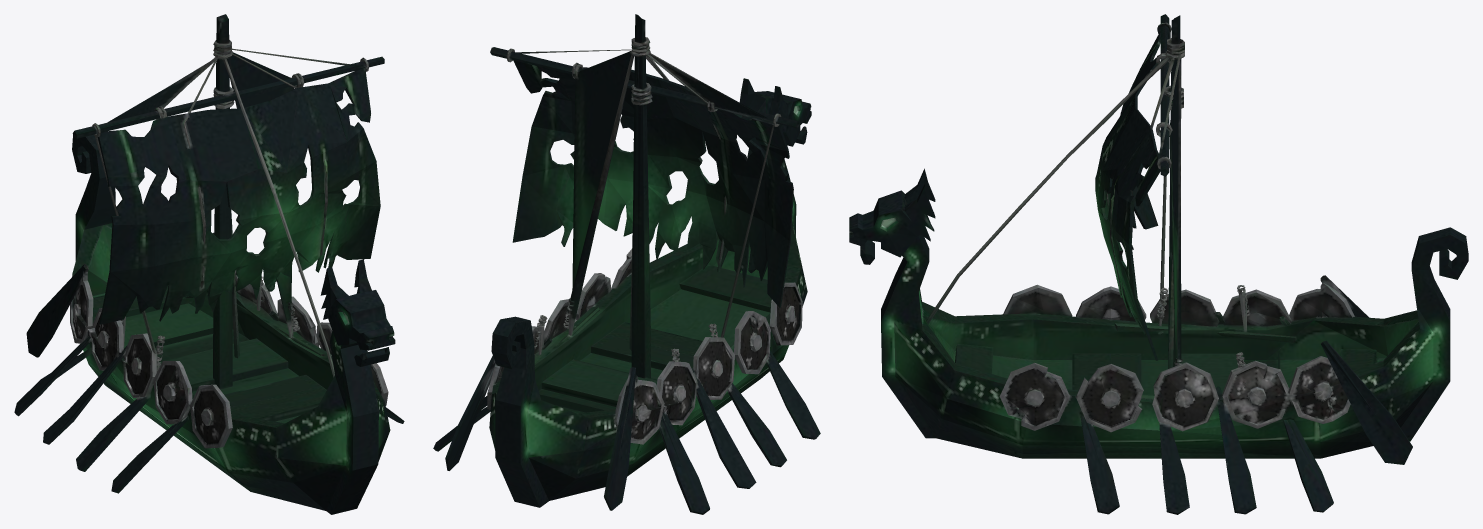
File: naglfar.glb
3 renders of one model, left to right at view 1: azimuth 30°, elevation 25°; view 2: azimuth 150°, elevation 25°; view 3: azimuth 270°, elevation 25°, orthographic. The views are drawn at different scales.
Visible parts, largest first — view 1: tripo_node_a47ce36b-40ee-4f9f-a010-9ed11b7cbd89; view 2: tripo_node_a47ce36b-40ee-4f9f-a010-9ed11b7cbd89; view 3: tripo_node_a47ce36b-40ee-4f9f-a010-9ed11b7cbd89.
Part boxes in pixels (left/top/right/bottom): tripo_node_a47ce36b-40ee-4f9f-a010-9ed11b7cbd89: left=14, top=14, right=404, bottom=514; tripo_node_a47ce36b-40ee-4f9f-a010-9ed11b7cbd89: left=433, top=14, right=820, bottom=514; tripo_node_a47ce36b-40ee-4f9f-a010-9ed11b7cbd89: left=849, top=14, right=1468, bottom=514.
Size of the model in its own units: 0.5879 by 0.7676 by 0.998.
Materials: 1 (1 with a texture image).
